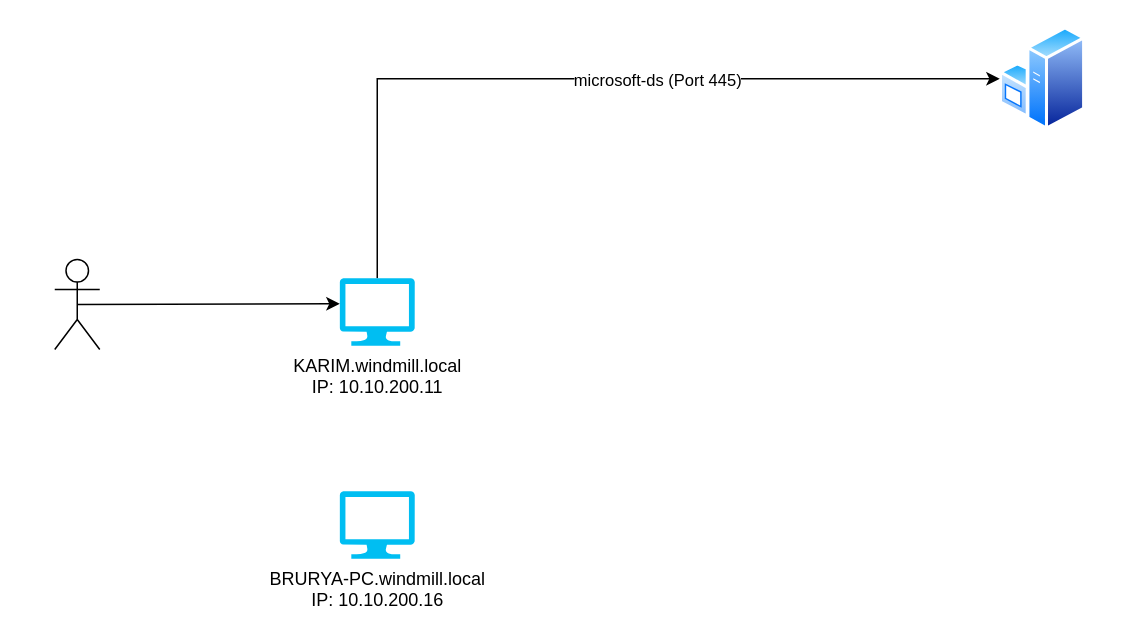
Some shapes in this 1130 by 638 pixel diagram are drawn without their labels. The shapes that lost their labels are listed below. From the top down, each one's box as (x1, y1, x2, y2) in pixels, then its label:
(999, 26, 1085, 130): WINDMILLDC IP: 10.10.200.6
(53, 258, 100, 350): WINDMILL\it
